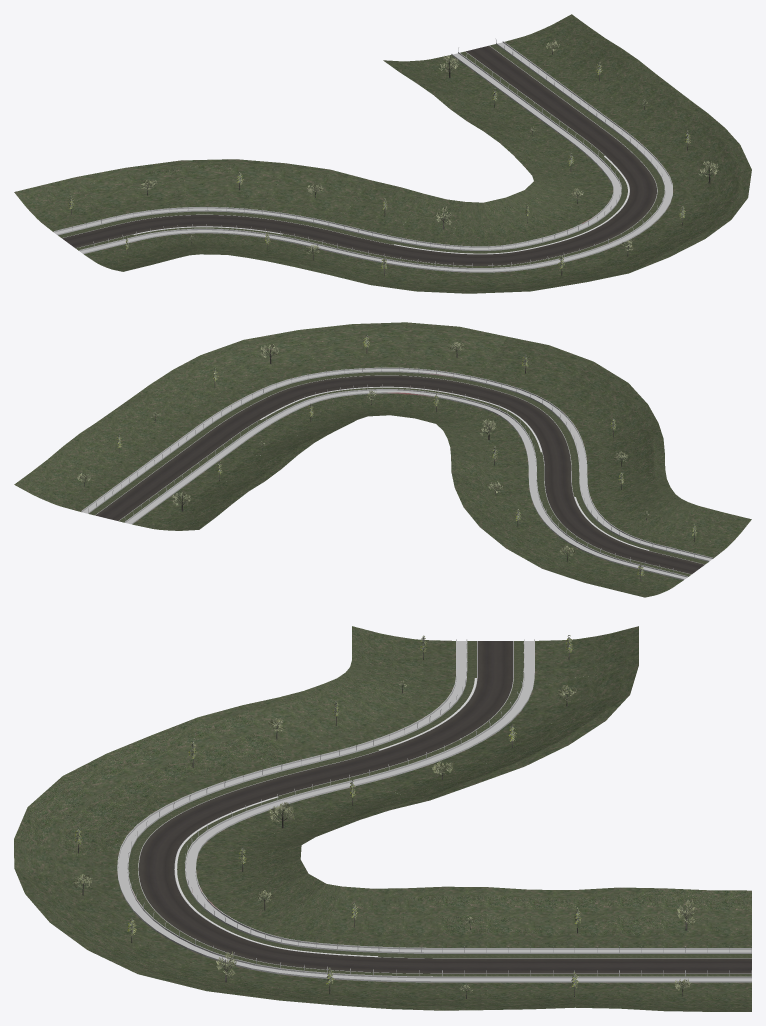
The picture shows the model from 3 angles, top to bottom: view 1: azimuth 30°, elevation 25°; view 2: azimuth 150°, elevation 25°; view 3: azimuth 270°, elevation 25°; orthographic projection. The views are drawn at different scales.
Visible parts, largest first — view 1: Grass, Road, Track, Trees, Colider-Curbs; view 2: Grass, Road, Track, Trees, Colider-Curbs; view 3: Grass, Road, Track, Trees, Colider-Curbs.
Boxes of the visible parts, left/top/right/bottom form: Grass: left=14, top=14, right=751, bottom=293; Road: left=62, top=45, right=656, bottom=265; Track: left=53, top=38, right=672, bottom=272; Trees: left=68, top=40, right=718, bottom=276; Colider-Curbs: left=133, top=156, right=629, bottom=254; Grass: left=14, top=322, right=751, bottom=597; Road: left=95, top=375, right=704, bottom=574; Track: left=81, top=367, right=713, bottom=580; Trees: left=77, top=334, right=696, bottom=581; Colider-Curbs: left=260, top=387, right=649, bottom=550; Grass: left=14, top=626, right=751, bottom=1011; Road: left=138, top=641, right=751, bottom=973; Track: left=117, top=639, right=751, bottom=982; Trees: left=72, top=635, right=696, bottom=998; Colider-Curbs: left=175, top=678, right=476, bottom=956.
Size of what is drawn, in the model's own units: 44500 by 1901 by 35970.
